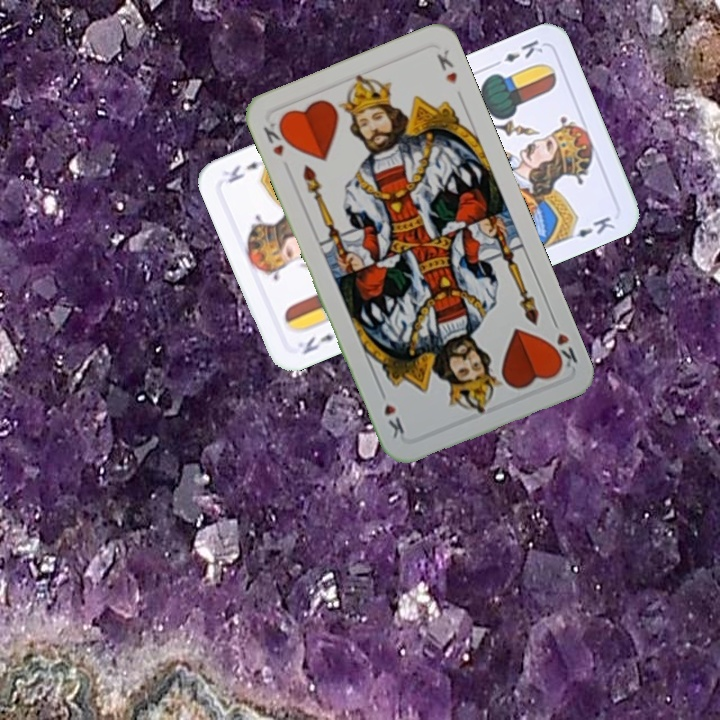EK: (488, 35, 546, 70), (298, 330, 337, 357)
HK: (545, 313, 580, 373), (259, 114, 293, 159)
